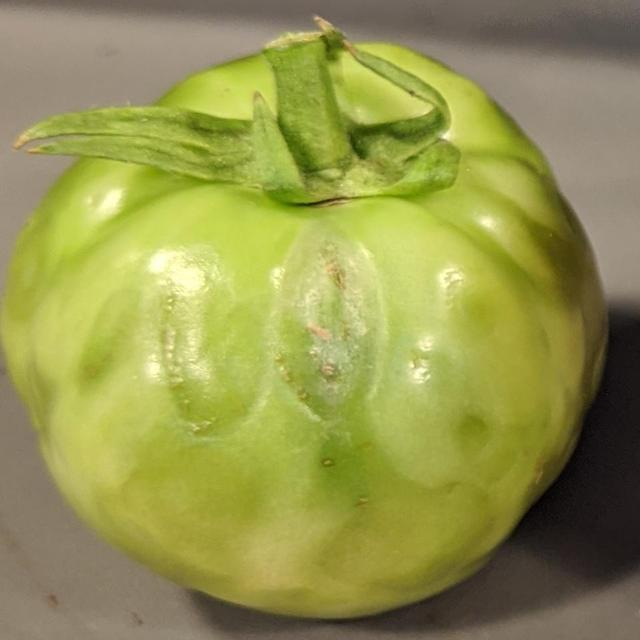Spotted wilt Virus Fruit: (133, 22, 426, 85)
